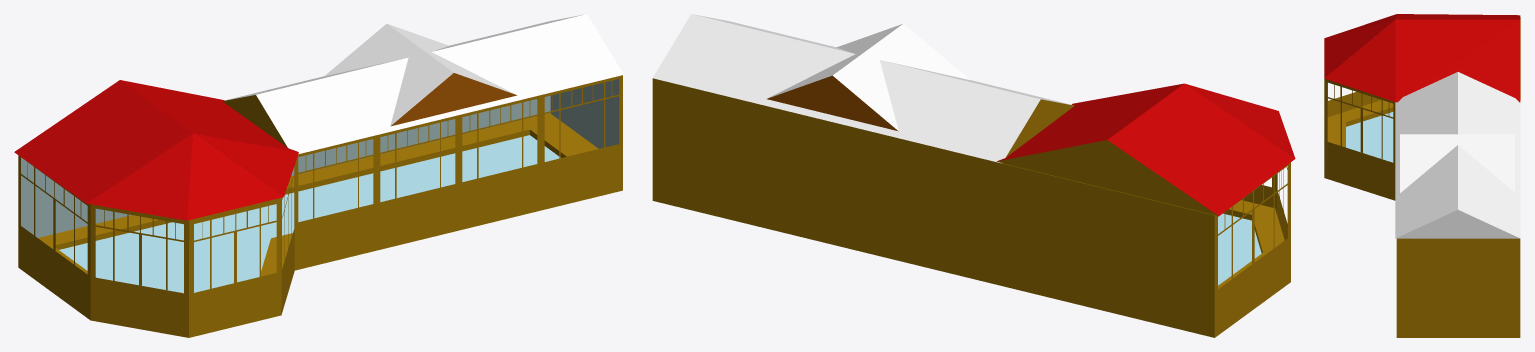
Rendered from IndoorPool.glb.
3 views of the same model, side by side, from view 1: azimuth 30°, elevation 25°; view 2: azimuth 150°, elevation 25°; view 3: azimuth 270°, elevation 25° (orthographic). The views are drawn at different scales.
Visible parts, largest first — view 1: Mesh7 Pool1 Model, Mesh1 Group1 Pool1 Model, Mesh3 Group2 Pool1 Model; view 2: Mesh7 Pool1 Model, Mesh3 Group2 Pool1 Model; view 3: Mesh7 Pool1 Model, Mesh5 Group3 Pool1 Model.
Part boxes in pixels (left/top/right/bottom): Mesh7 Pool1 Model: left=14, top=14, right=623, bottom=337; Mesh1 Group1 Pool1 Model: left=95, top=210, right=183, bottom=289; Mesh3 Group2 Pool1 Model: left=21, top=162, right=87, bottom=264; Mesh7 Pool1 Model: left=652, top=14, right=1295, bottom=337; Mesh3 Group2 Pool1 Model: left=1218, top=171, right=1287, bottom=278; Mesh7 Pool1 Model: left=1324, top=14, right=1520, bottom=337; Mesh5 Group3 Pool1 Model: left=1327, top=85, right=1393, bottom=158.
Bounding box in the file's own units: 51.14 × 14.82 × 19.01.
